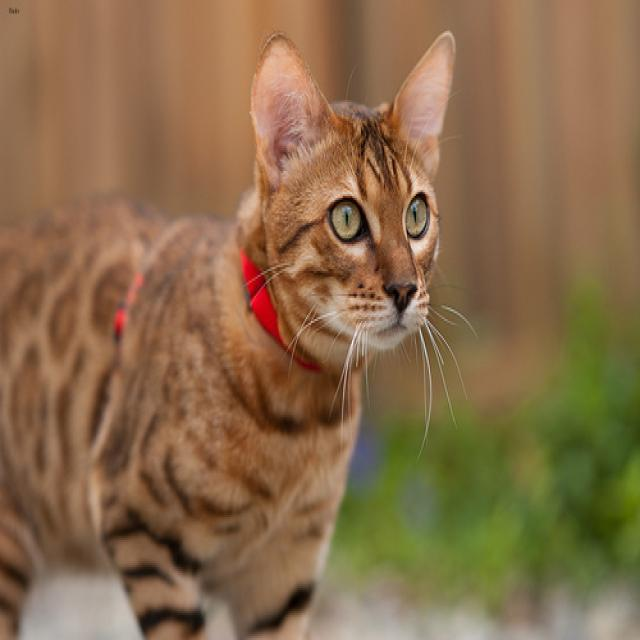Bengal: (246, 20, 468, 364)
